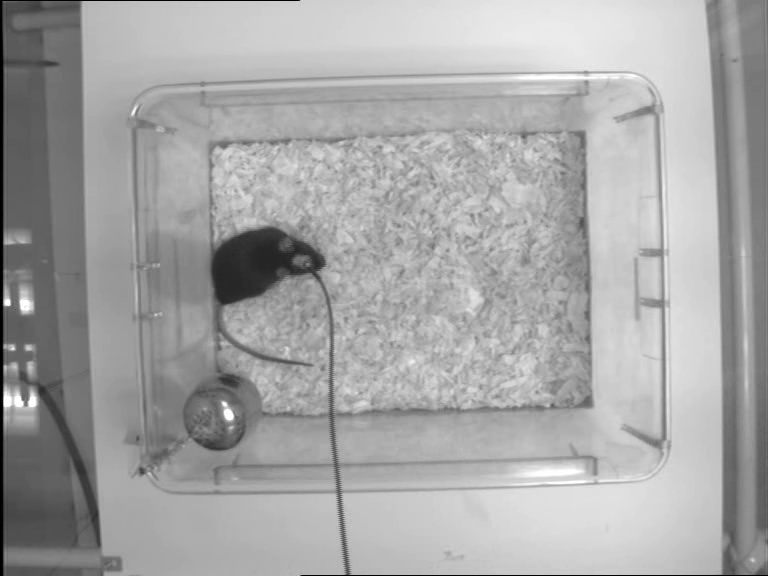mice: (211, 224, 326, 368)
